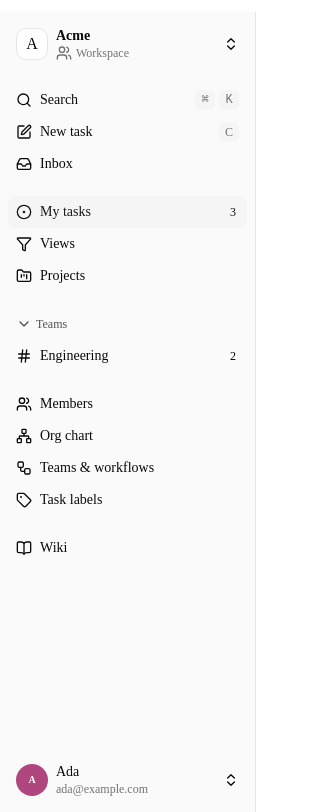
Scenario: AppSidebar › folds the teams list away and back, and remembers it
Later steps or results of the test are not shown.
Click the button "Teams": (128, 324) [8, 308, 247, 340]
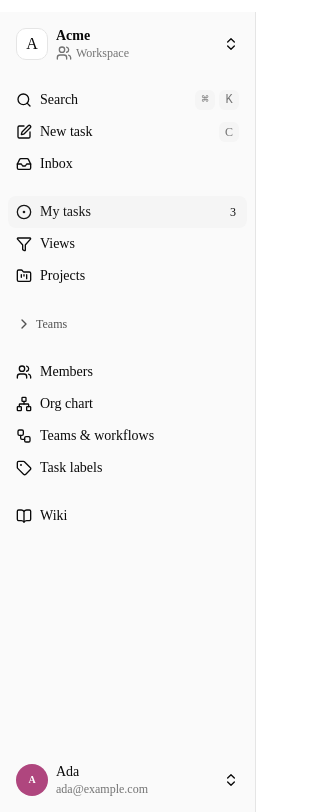
Now the button "Teams" is collapsed, box [8, 308, 247, 340]
